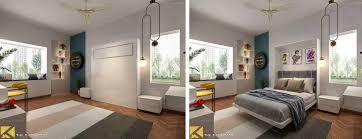bed: (234, 70, 319, 130)
chair: (6, 80, 31, 110), (196, 82, 218, 111)
fan: (243, 0, 299, 37), (55, 0, 115, 34)
light: (137, 0, 160, 68), (317, 0, 338, 68)
table: (164, 83, 188, 117), (137, 93, 164, 116), (342, 85, 362, 115), (317, 93, 340, 116), (79, 85, 91, 101)
